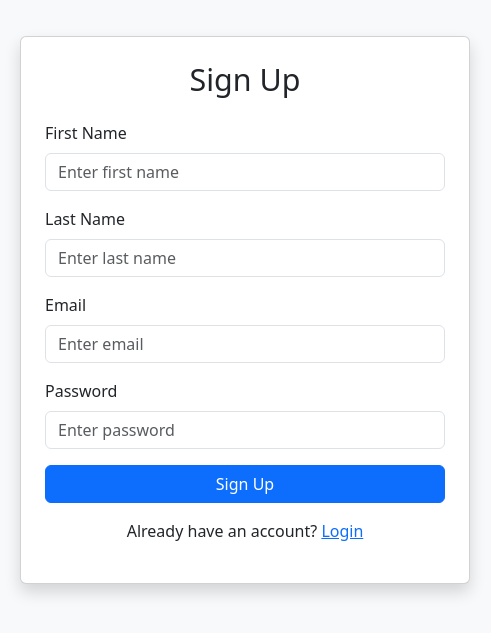
Scenario: Signup › posts the whole form, shows the success message and resets the fields
The width and height of the screenshot is (491, 633).
Type "Ada" into the field with placeholder "Enter first name" at (245, 172), box [45, 153, 445, 191]
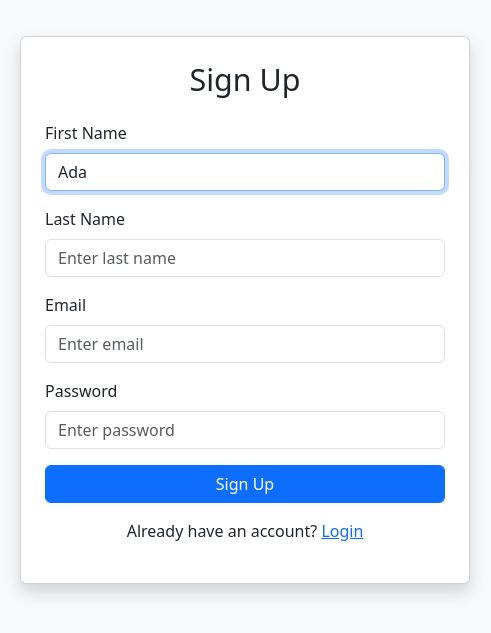
Type "Lovelace" into the field with placeholder "Enter last name" at (245, 258), box [45, 239, 445, 277]
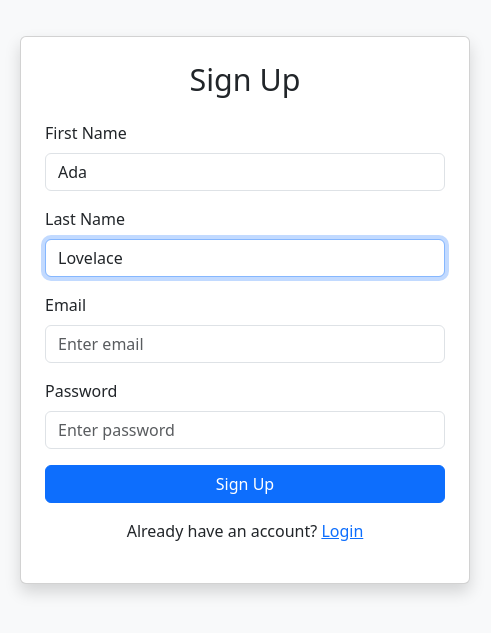
Type "ada@example.com" into the field with placeholder "Enter email" at (245, 344), box [45, 325, 445, 363]
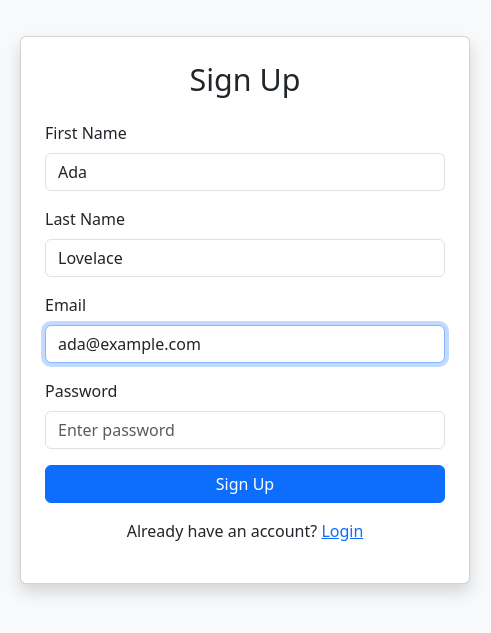
Type "secret123" into the password field with placeholder "Enter password" at (245, 430), box [45, 411, 445, 449]
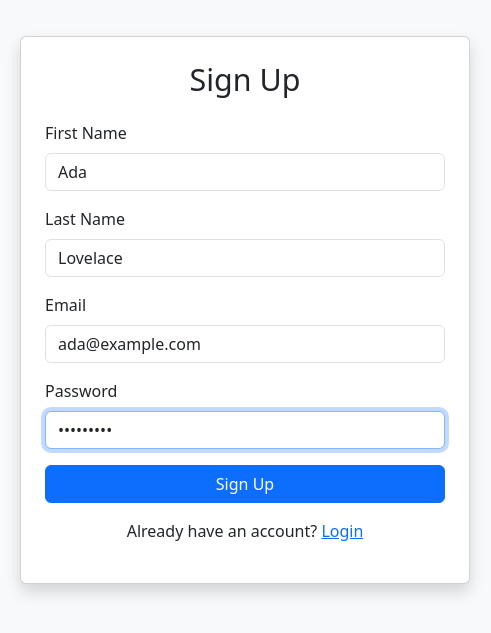
Click the button "Sign Up" at (245, 484), box [45, 465, 445, 503]
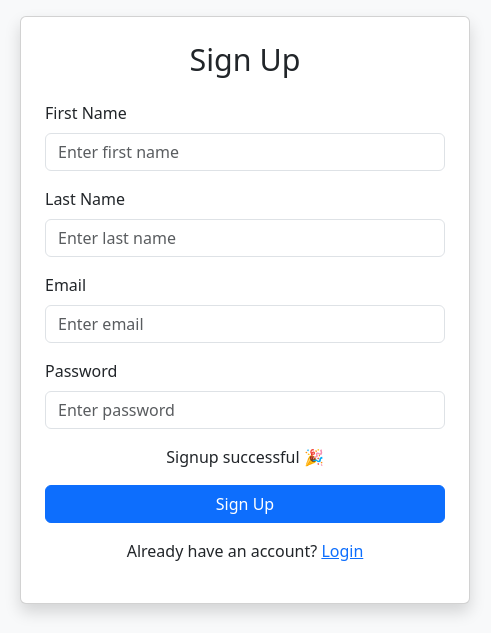
Now the text "Signup successful 🎉" is shown, box [166, 446, 324, 468]
Now the field with placeholder "Enter first name" is empty, box [45, 133, 445, 171]
Now the field with placeholder "Enter email" is empty, box [45, 305, 445, 343]
